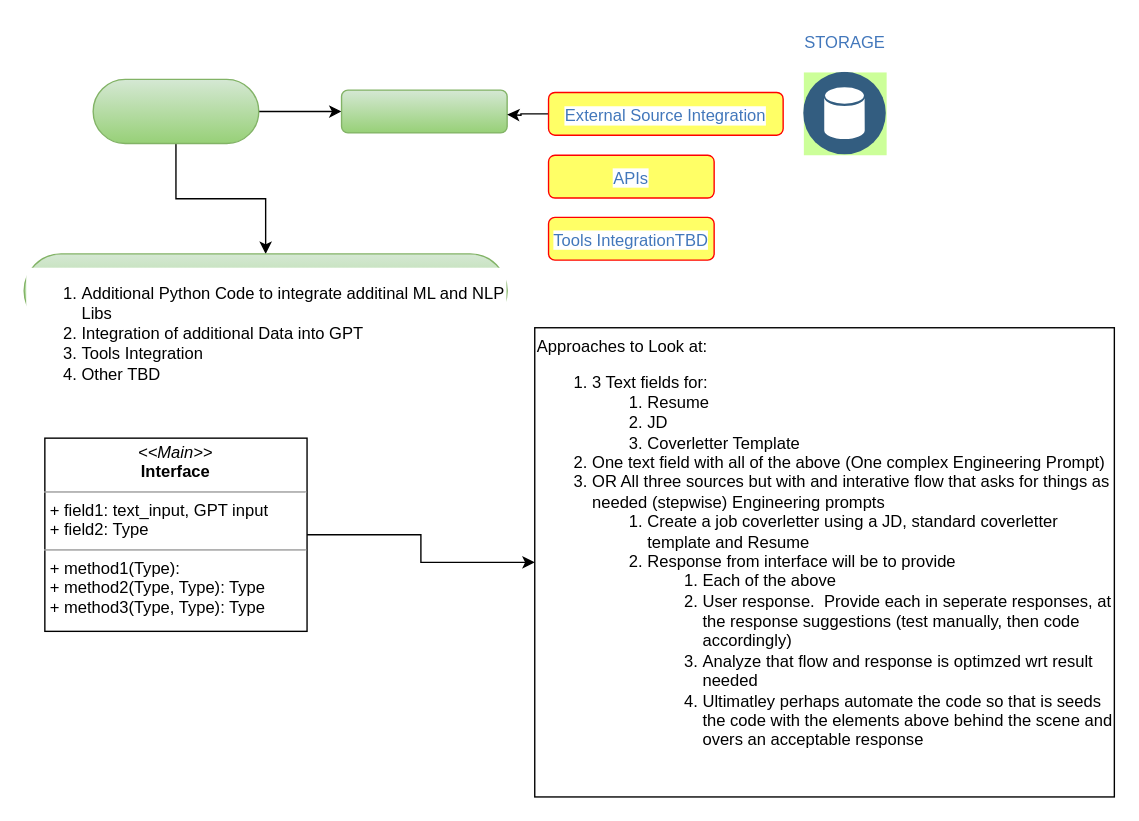
This 1139x821 diagram has some shape labels left out. Each missing label, with the centre of its shape:
"AWS S3 AWS Storage Gateway (hybrid support)" belongs at pixel 844 113.
"ChatGPT" belongs at pixel 423 111.
"Streamlit/Python Code" belongs at pixel 175 111.
